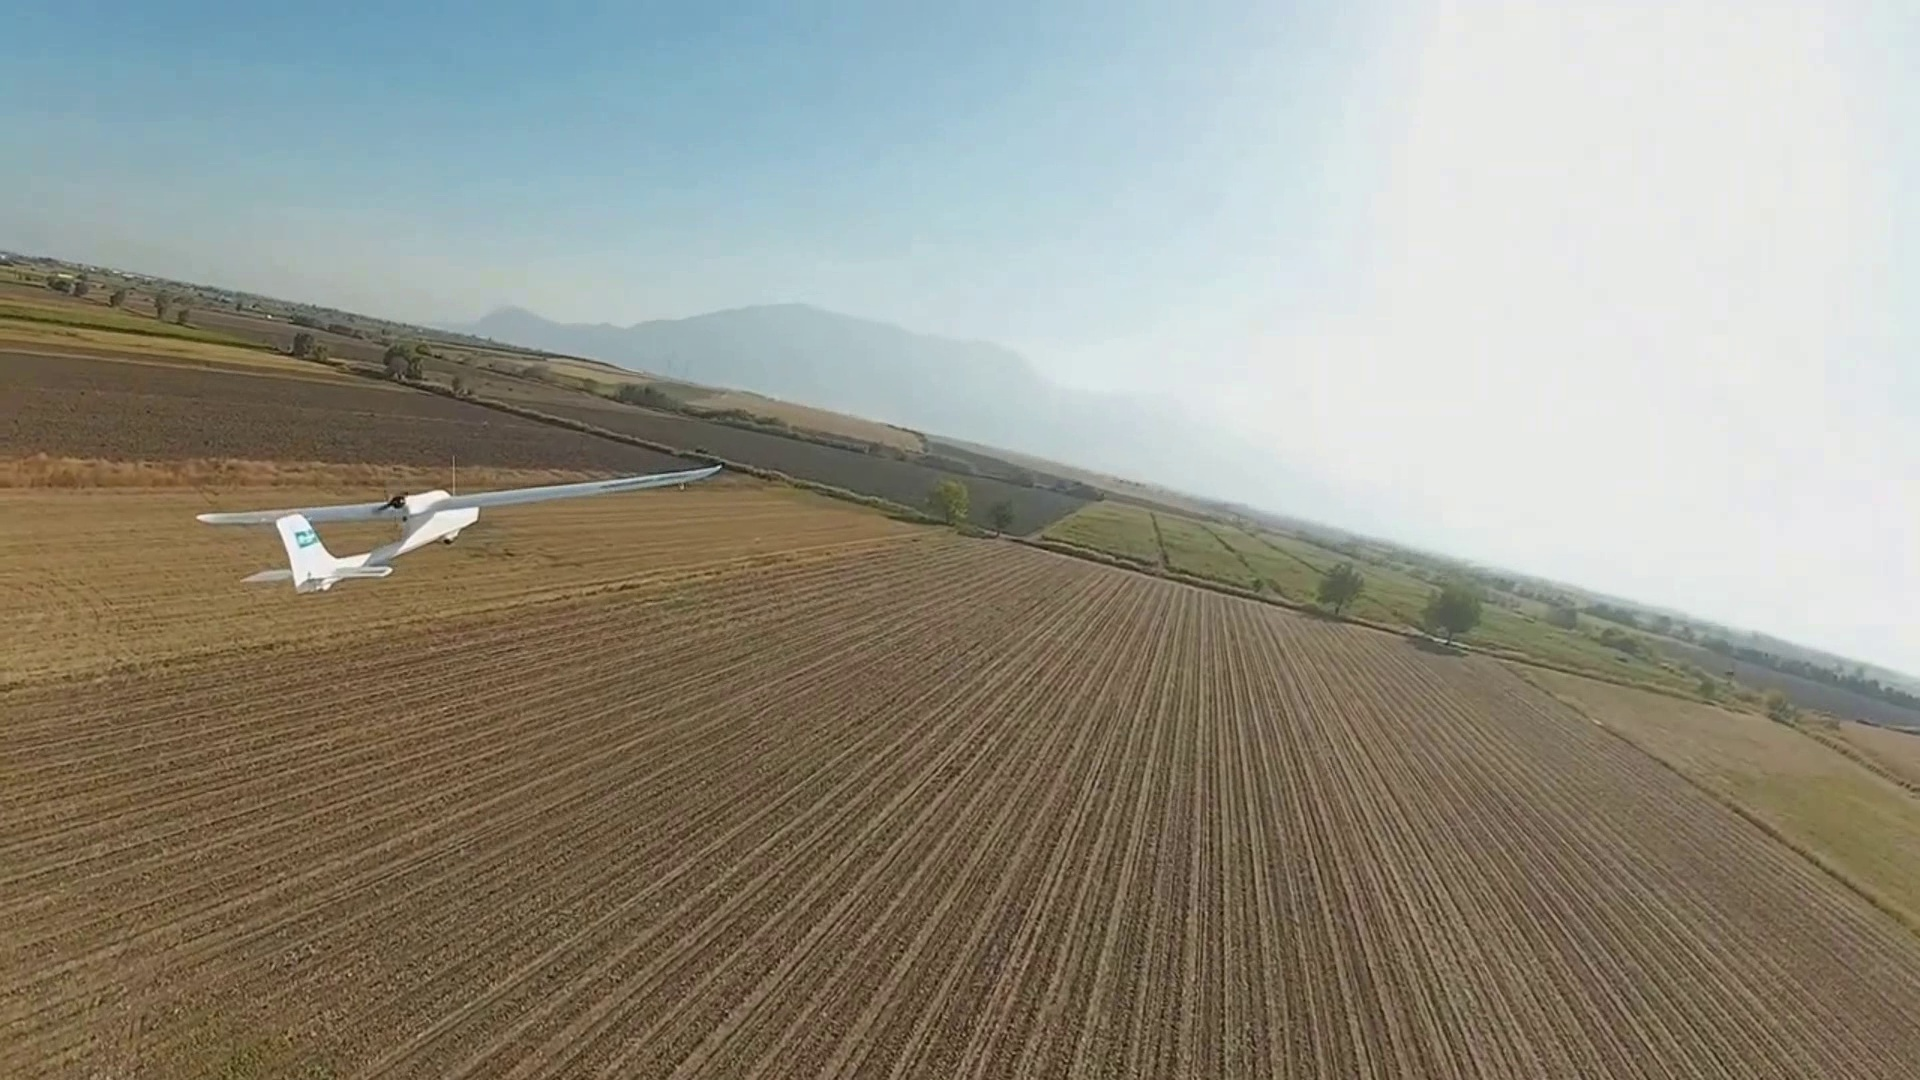airplane: (193, 463, 727, 595)
